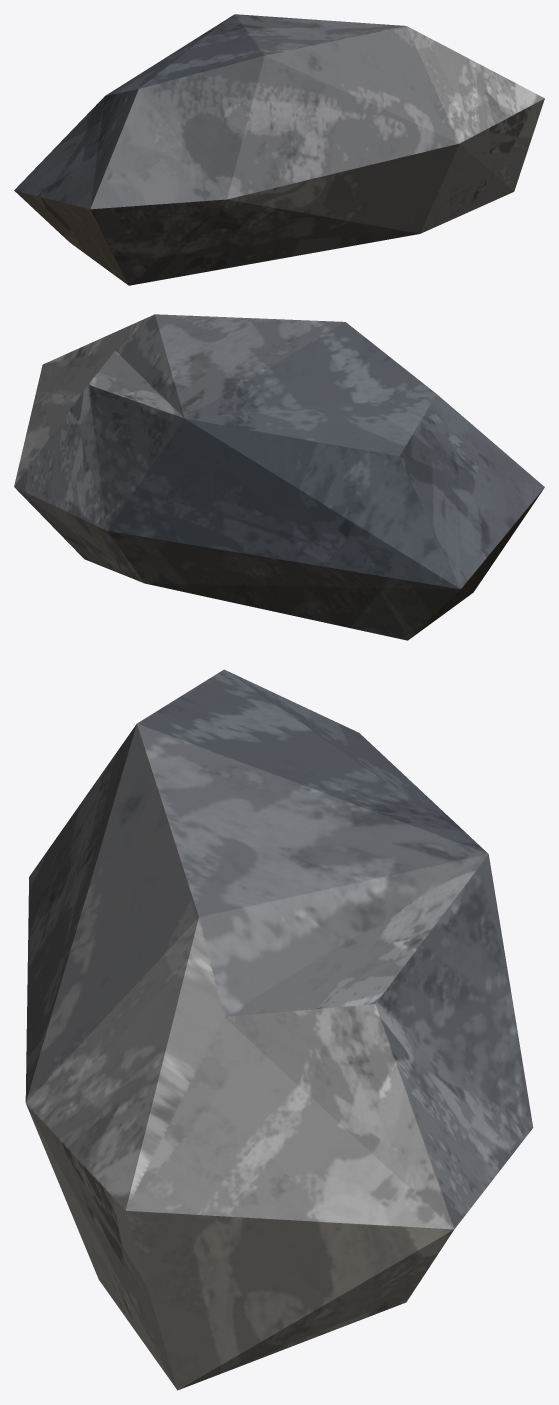
The model's file is RockMedium.obj.
3 renders of one model, top to bottom at view 1: azimuth 30°, elevation 25°; view 2: azimuth 150°, elevation 25°; view 3: azimuth 270°, elevation 25°, orthographic. The views are drawn at different scales.
Parts seen in each view (by area): view 1: RockMedium; view 2: RockMedium; view 3: RockMedium.
Part boxes in pixels (x1=…): RockMedium: x1=14, y1=14, x2=544, y2=285; RockMedium: x1=14, y1=314, x2=544, y2=640; RockMedium: x1=25, y1=669, x2=533, y2=1390.
Bounding box in the file's own units: 3.15 × 1.37 × 1.52.
